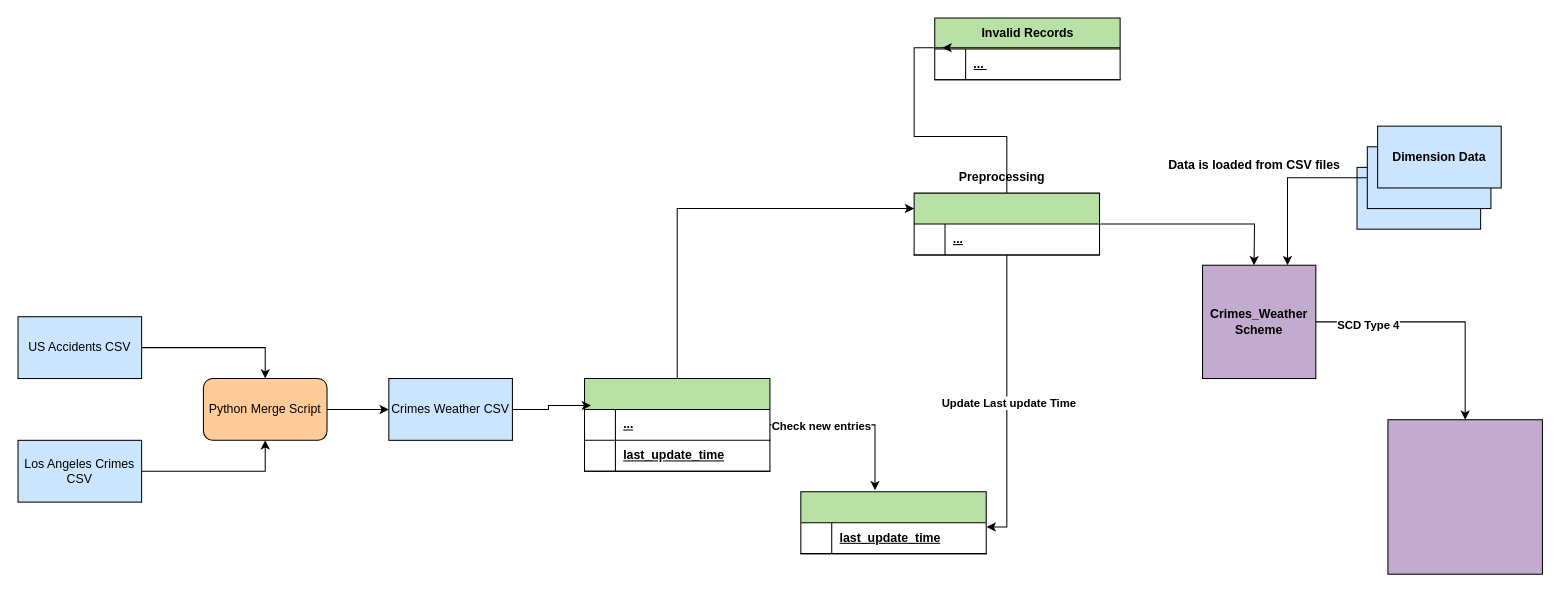
The diagram is 1560 pixels wide and 592 high, and some of its shapes have lost their labels. The shapes that lost their labels are listed below. From the top down, each one's box as (x1, y1, x2, y2) in pixels, then its label:
(913, 192, 1100, 255): Staging Table
(583, 377, 770, 471): Source Table
(1387, 419, 1542, 574): History_Crimes_Weather Scheme
(800, 491, 986, 554): Control Table
